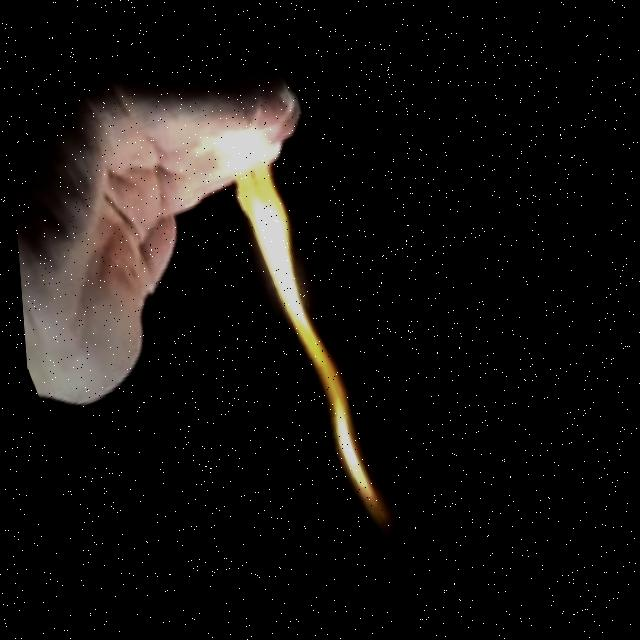Fire: (200, 113, 405, 508)
